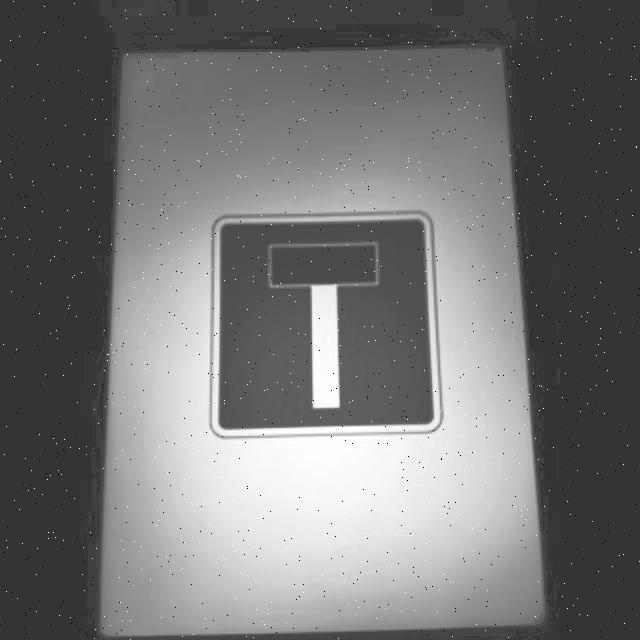DEAD END: (203, 210, 444, 436)
